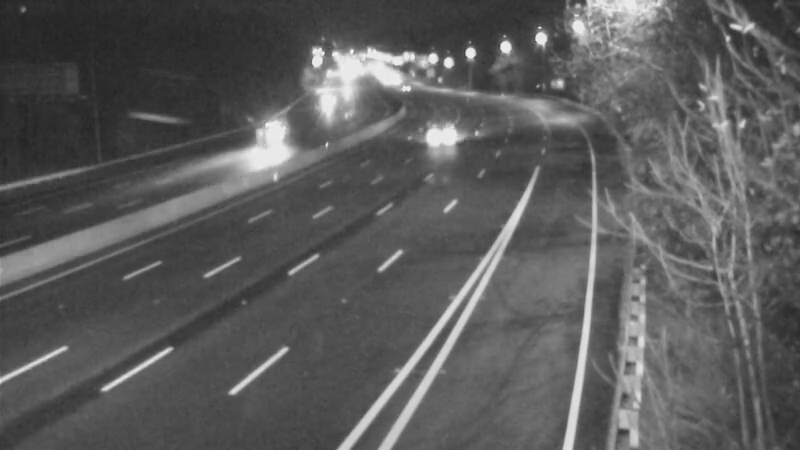vehicle: (380, 65, 430, 115), (418, 107, 468, 157), (246, 115, 296, 165), (303, 71, 353, 121)
